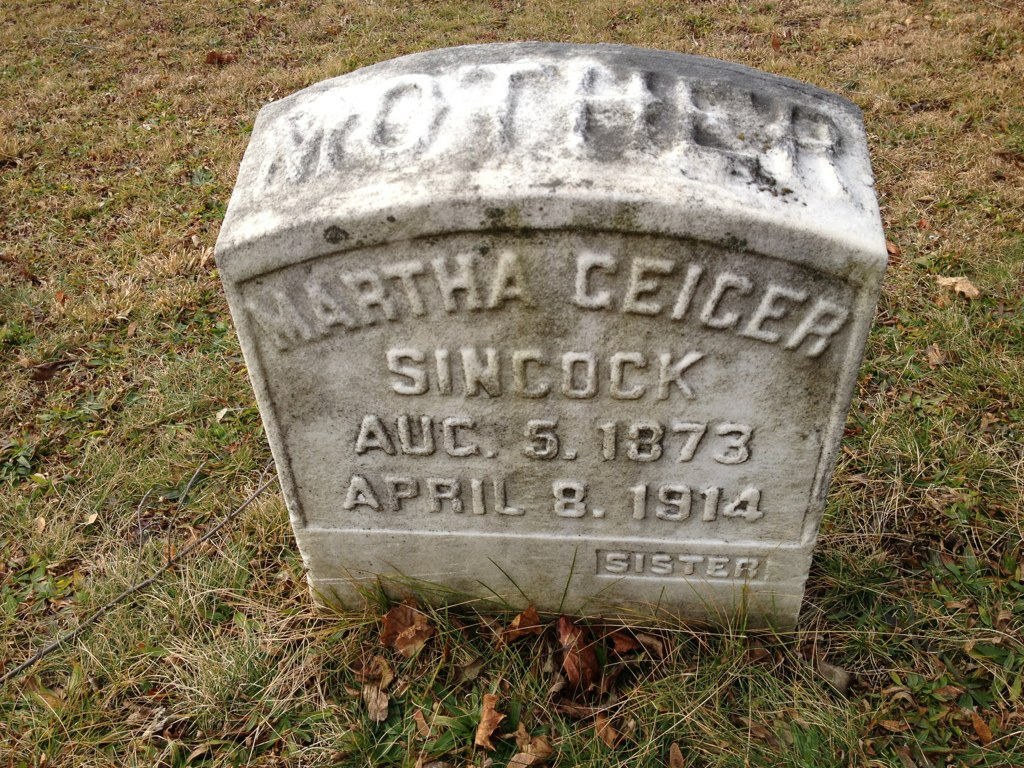upright: (212, 46, 885, 649)
